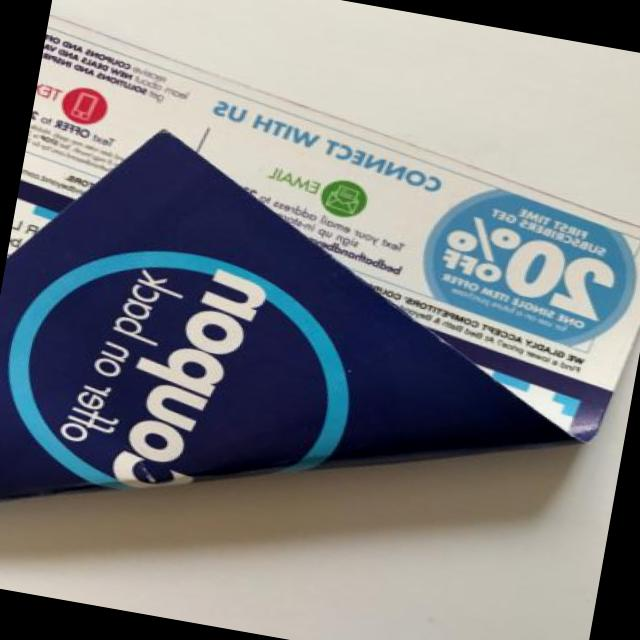paper: (0, 13, 640, 540)
